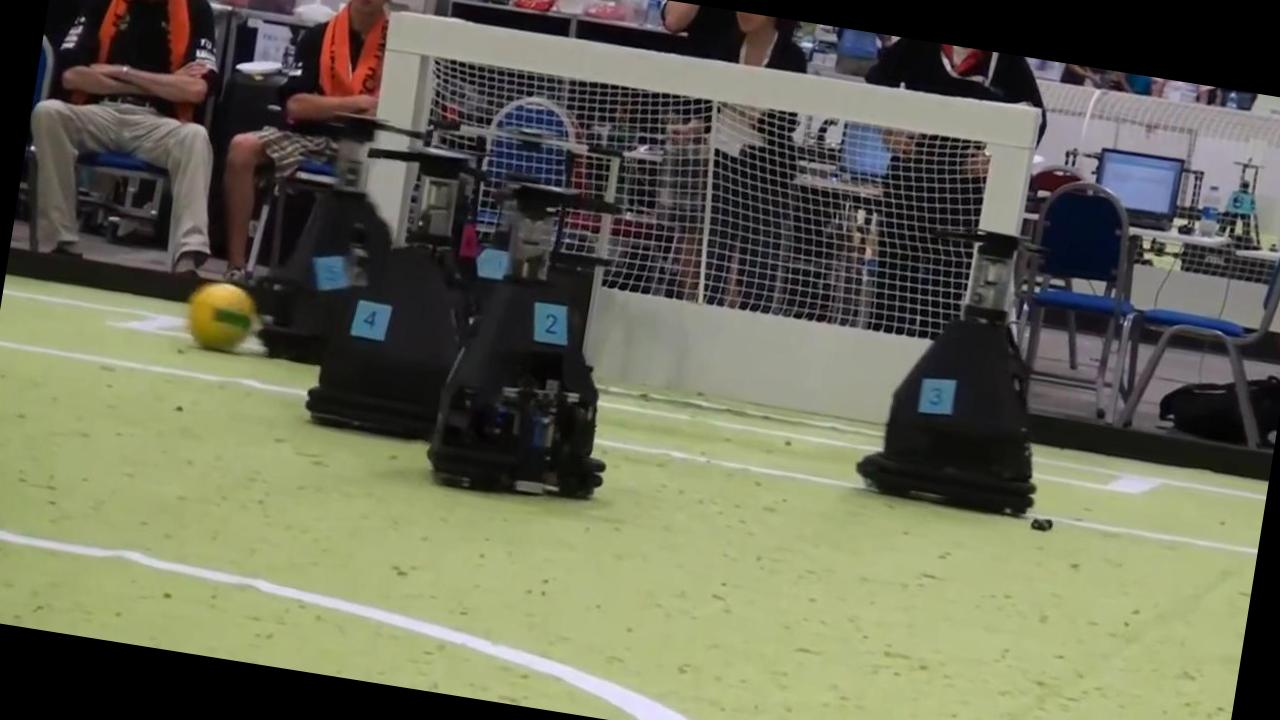ball: (189, 282, 257, 351)
robot: (428, 182, 605, 498), (858, 230, 1035, 513), (306, 149, 467, 439), (254, 117, 390, 364)
